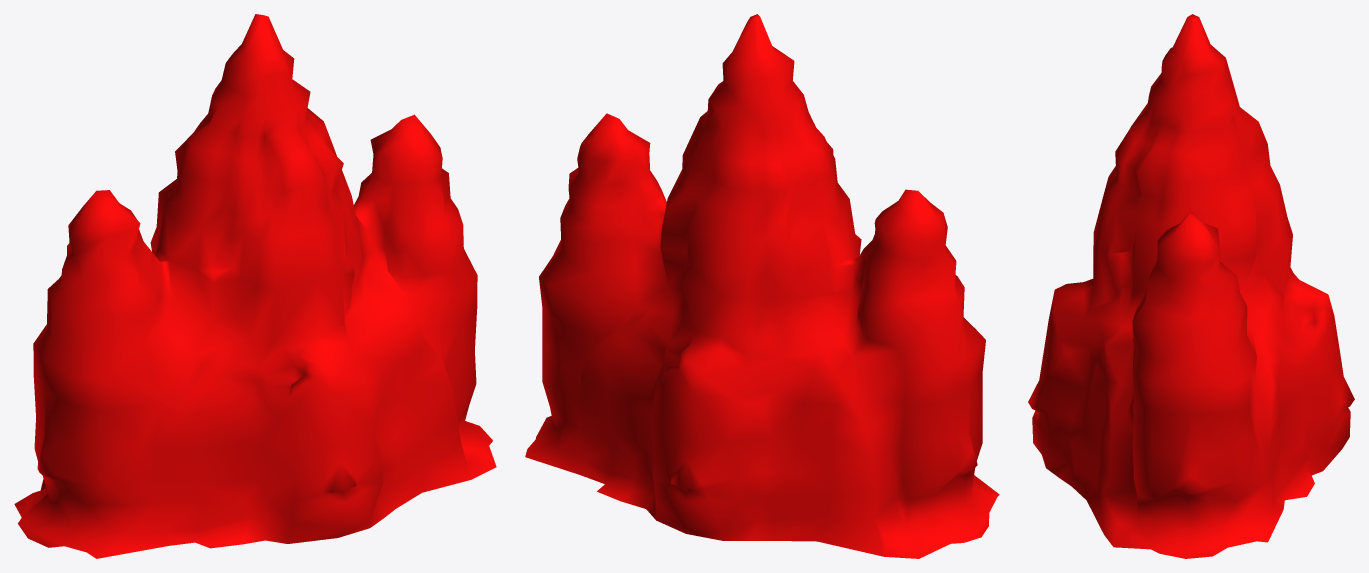
File: Hero_Prop_AngkorWat_SouthGateFaceStatue_01.FBX
3 renders of one model, left to right at view 1: azimuth 30°, elevation 25°; view 2: azimuth 150°, elevation 25°; view 3: azimuth 270°, elevation 25°, orthographic. The views are drawn at different scales.
Parts seen in each view (by area): view 1: Prop_Hero_AngkorWat_SouthFace_faceStatue_01; view 2: Prop_Hero_AngkorWat_SouthFace_faceStatue_01; view 3: Prop_Hero_AngkorWat_SouthFace_faceStatue_01.
Boxes of the visible parts, x1,y1,x2,y2 form: Prop_Hero_AngkorWat_SouthFace_faceStatue_01: (14, 14, 496, 558); Prop_Hero_AngkorWat_SouthFace_faceStatue_01: (525, 14, 999, 558); Prop_Hero_AngkorWat_SouthFace_faceStatue_01: (1028, 14, 1354, 558).
Bounding box in the file's own units: 1149 × 1152 × 769.
